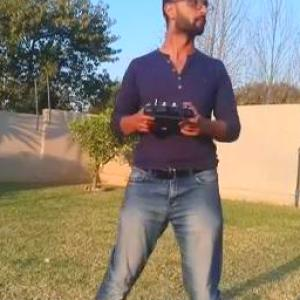follow: (86, 0, 240, 299)
